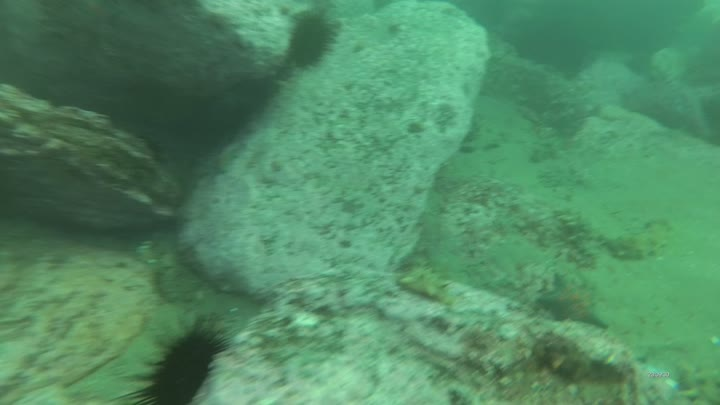echinus: (105, 319, 234, 405), (289, 4, 341, 70)
holothurian: (597, 219, 674, 261), (399, 265, 456, 307)
starfish: (536, 272, 612, 331)
